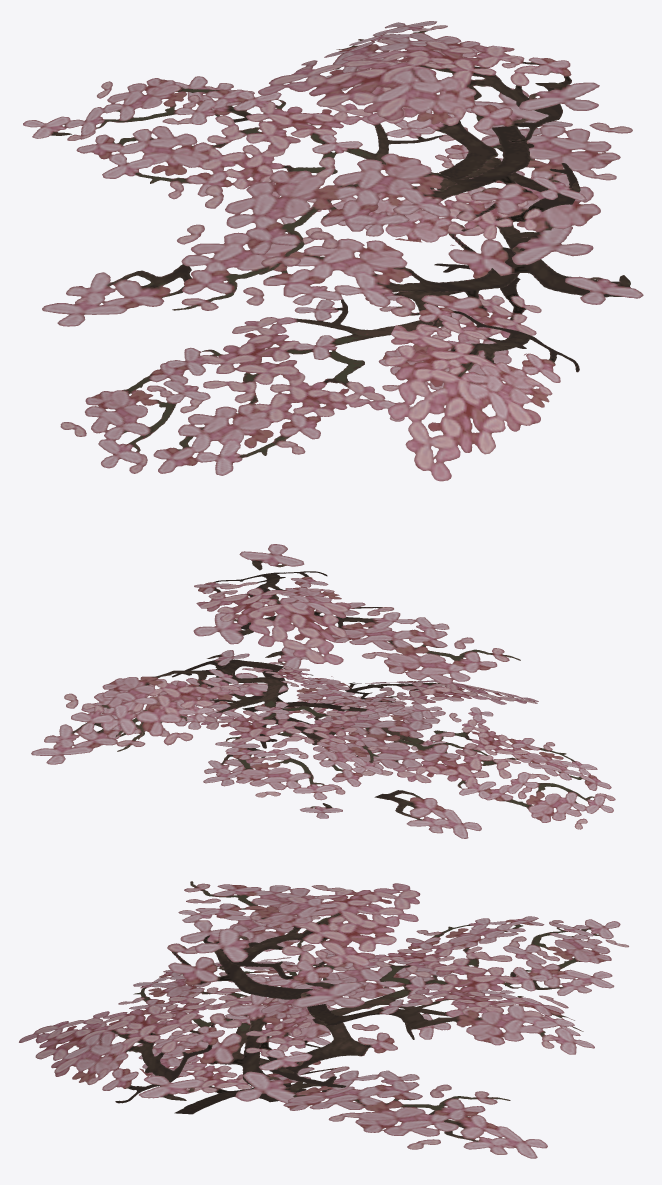
Rendered from wq_plant001_01.FBX.
The picture shows the model from 3 angles, top to bottom: view 1: azimuth 30°, elevation 25°; view 2: azimuth 150°, elevation 25°; view 3: azimuth 270°, elevation 25°; orthographic projection. The views are drawn at different scales.
Visible parts, largest first — view 1: wq_plant001_01; view 2: wq_plant001_01; view 3: wq_plant001_01.
Boxes of the visible parts, x1,y1,x2,y2 form: wq_plant001_01: (23, 21, 643, 481); wq_plant001_01: (31, 544, 615, 838); wq_plant001_01: (19, 881, 628, 1158).
Size of the model in its own units: 263 by 96.57 by 256.
